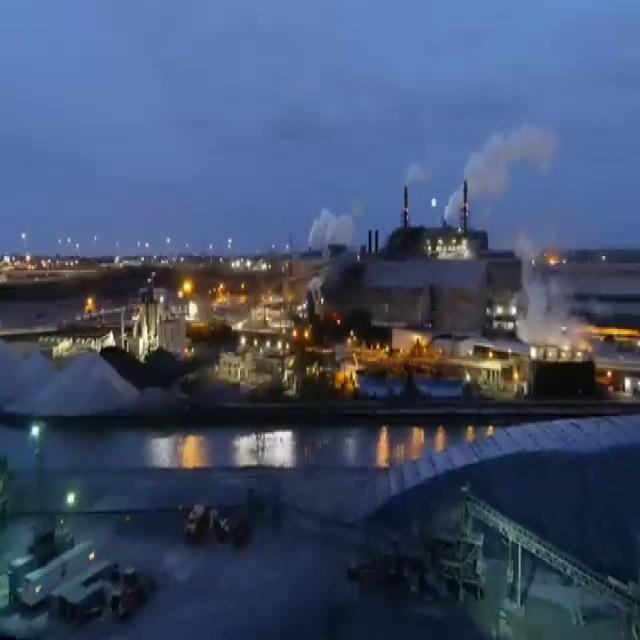smoke: (521, 251, 640, 363), (458, 124, 561, 229), (302, 187, 367, 267)
